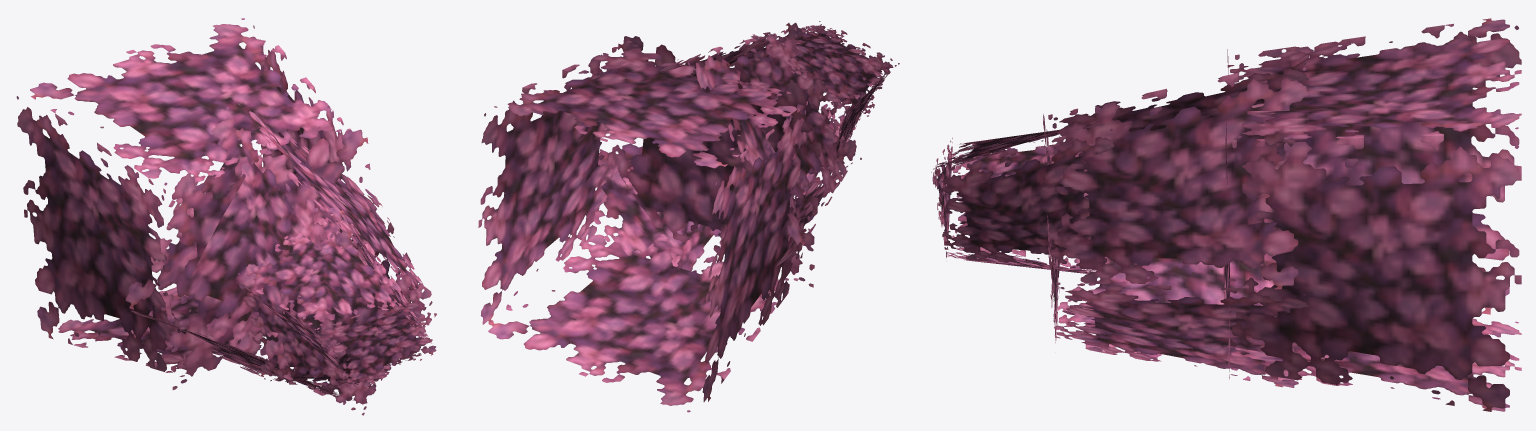
Rendered from keep-tall-purple.obj.
3 views of the same model, side by side, from view 1: azimuth 30°, elevation 25°; view 2: azimuth 150°, elevation 25°; view 3: azimuth 270°, elevation 25° (orthographic). The views are drawn at different scales.
Bounding box in the file's own units: 0.7197 × 0.7133 × 1.18.
1 material, 1 textured.
